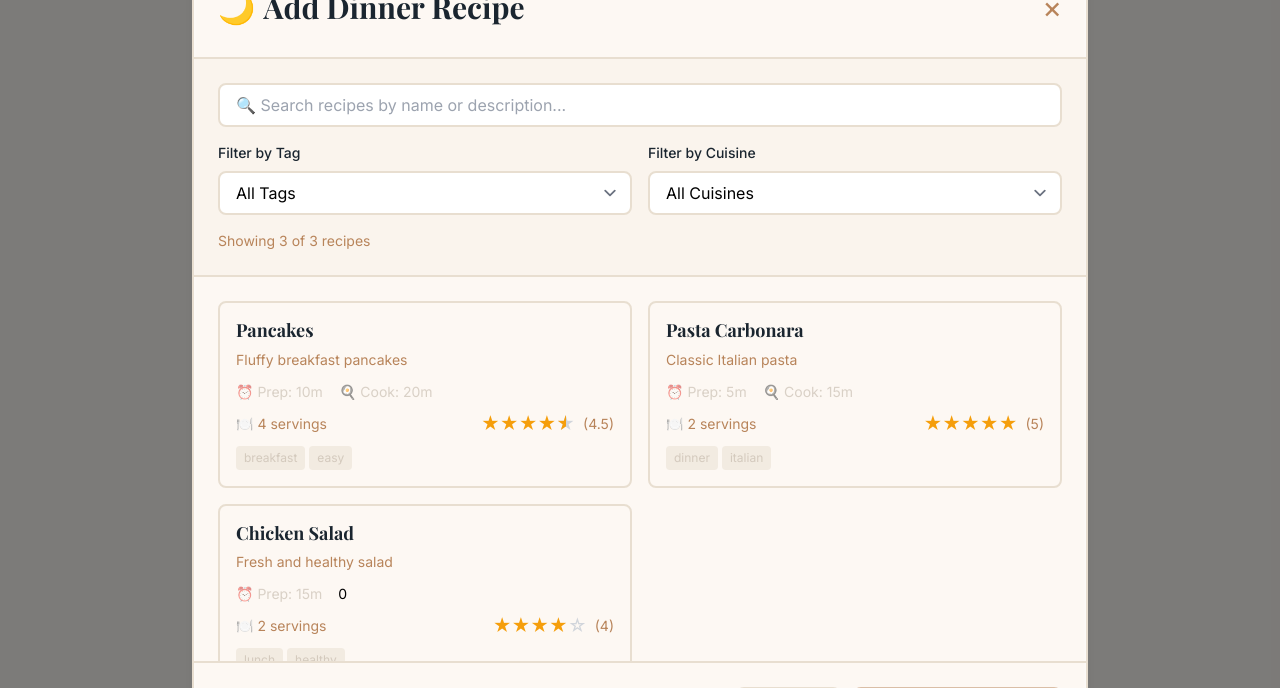
RecipeSelectorModal › filters recipes by search term
Type "pasta" into the field with placeholder "🔍 Search recipes by name or description..." at (640, 105), box [218,83,1062,127]
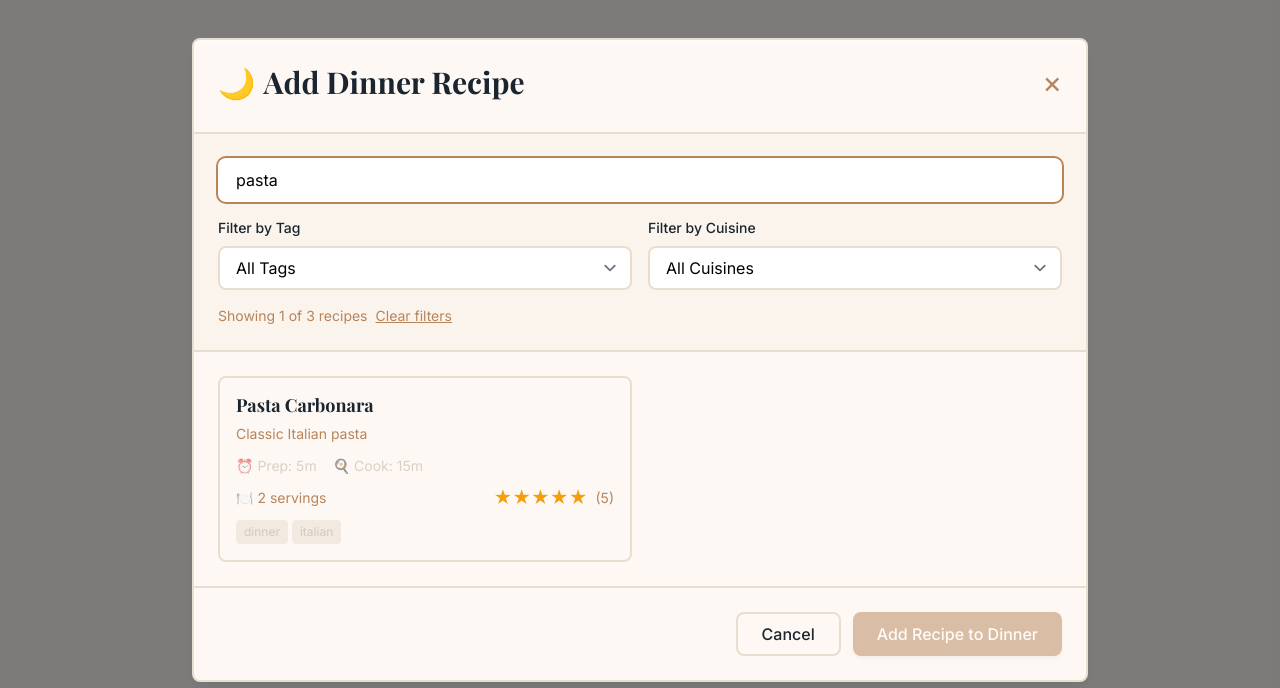
Expected: the heading "Pasta Carbonara" is shown, [236,393,374,417]
Result: the heading "Pancakes" is gone
Result: the heading "Chicken Salad" is gone
